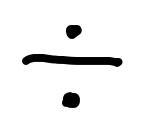div: (23, 25, 123, 110)
